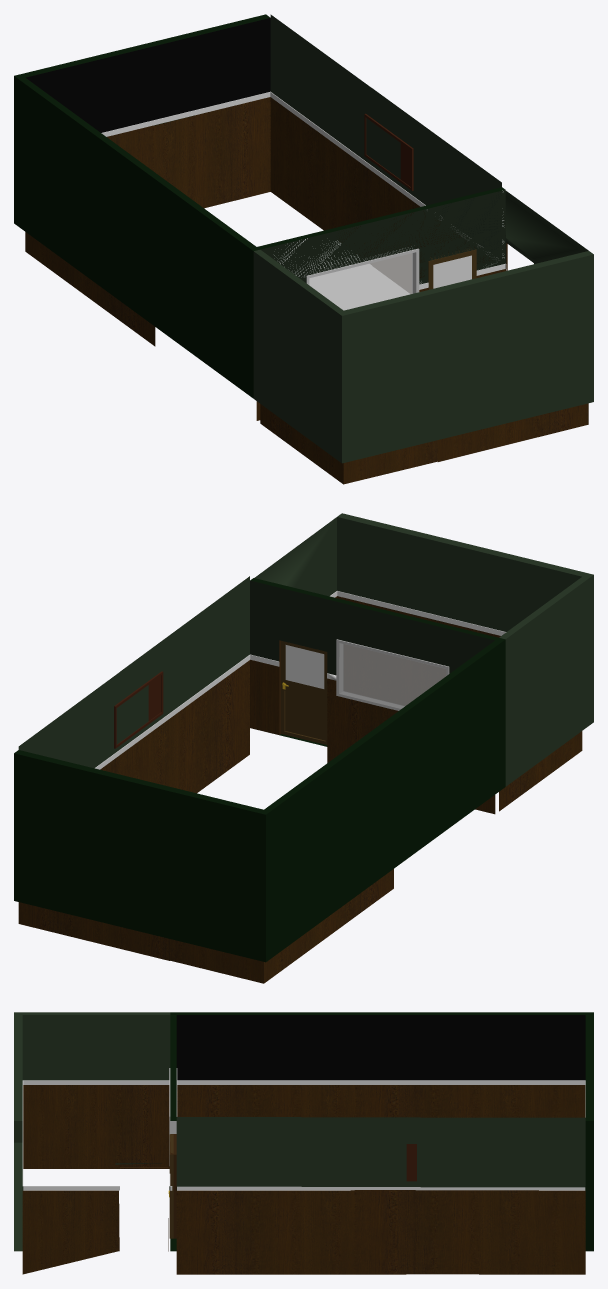
File: doprosnaya.fbx
3 views of the same model, one above another, from view 1: azimuth 30°, elevation 25°; view 2: azimuth 150°, elevation 25°; view 3: azimuth 270°, elevation 25° (orthographic). The views are drawn at different scales.
Parts seen in each view (by area): view 1: Plane.098, Plane.009, Plane.104, Plane.107, Plane.115, Plane.110, Plane.103, Plane.120, Plane.085, Plane.112, Plane.011, Plane.010 (+4 smaller); view 2: Plane.009, Plane.098, Plane.107, Plane.104, Plane.110, Plane.115, Plane.085, Plane.083, Plane.120, Plane.112, Plane.116, Plane.011 (+6 smaller); view 3: Plane.110, Plane.107, Plane.104, Plane.011, Plane.098, Plane.119, Plane.121, Plane.009, Plane.010, Plane.013, Plane.083, Plane.012 (+1 smaller).
Part boxes in pixels (x1,y1,x2,y2): Plane.098: [253, 249, 593, 463]; Plane.009: [14, 14, 505, 398]; Plane.104: [26, 18, 270, 132]; Plane.107: [270, 14, 501, 258]; Plane.115: [107, 97, 270, 208]; Plane.110: [270, 97, 492, 293]; Plane.103: [261, 190, 505, 284]; Plane.120: [343, 403, 588, 484]; Plane.085: [309, 253, 411, 310]; Plane.112: [505, 190, 588, 263]; Plane.011: [25, 232, 155, 346]; Plane.010: [101, 91, 499, 283]; Plane.009: [14, 578, 505, 962]; Plane.098: [337, 513, 593, 786]; Plane.107: [18, 576, 249, 768]; Plane.104: [250, 580, 494, 675]; Plane.110: [100, 660, 249, 793]; Plane.115: [18, 902, 263, 983]; Plane.085: [339, 643, 446, 708]; Plane.083: [281, 640, 327, 744]; Plane.120: [337, 596, 500, 705]; Plane.112: [254, 517, 336, 596]; Plane.116: [327, 678, 495, 814]; Plane.011: [264, 869, 393, 983]; Plane.110: [176, 1190, 585, 1274]; Plane.107: [176, 1117, 585, 1187]; Plane.104: [176, 1015, 585, 1080]; Plane.011: [177, 1085, 585, 1117]; Plane.098: [14, 1012, 170, 1251]; Plane.119: [23, 1085, 169, 1168]; Plane.121: [22, 1190, 119, 1274]; Plane.009: [170, 1012, 593, 1251]; Plane.010: [177, 1080, 585, 1190]; Plane.013: [23, 1080, 172, 1190]; Plane.083: [168, 1134, 173, 1238]; Plane.012: [170, 1134, 176, 1238].
Bounding box in the file's own units: 10.04 × 22.55 × 6.79.
